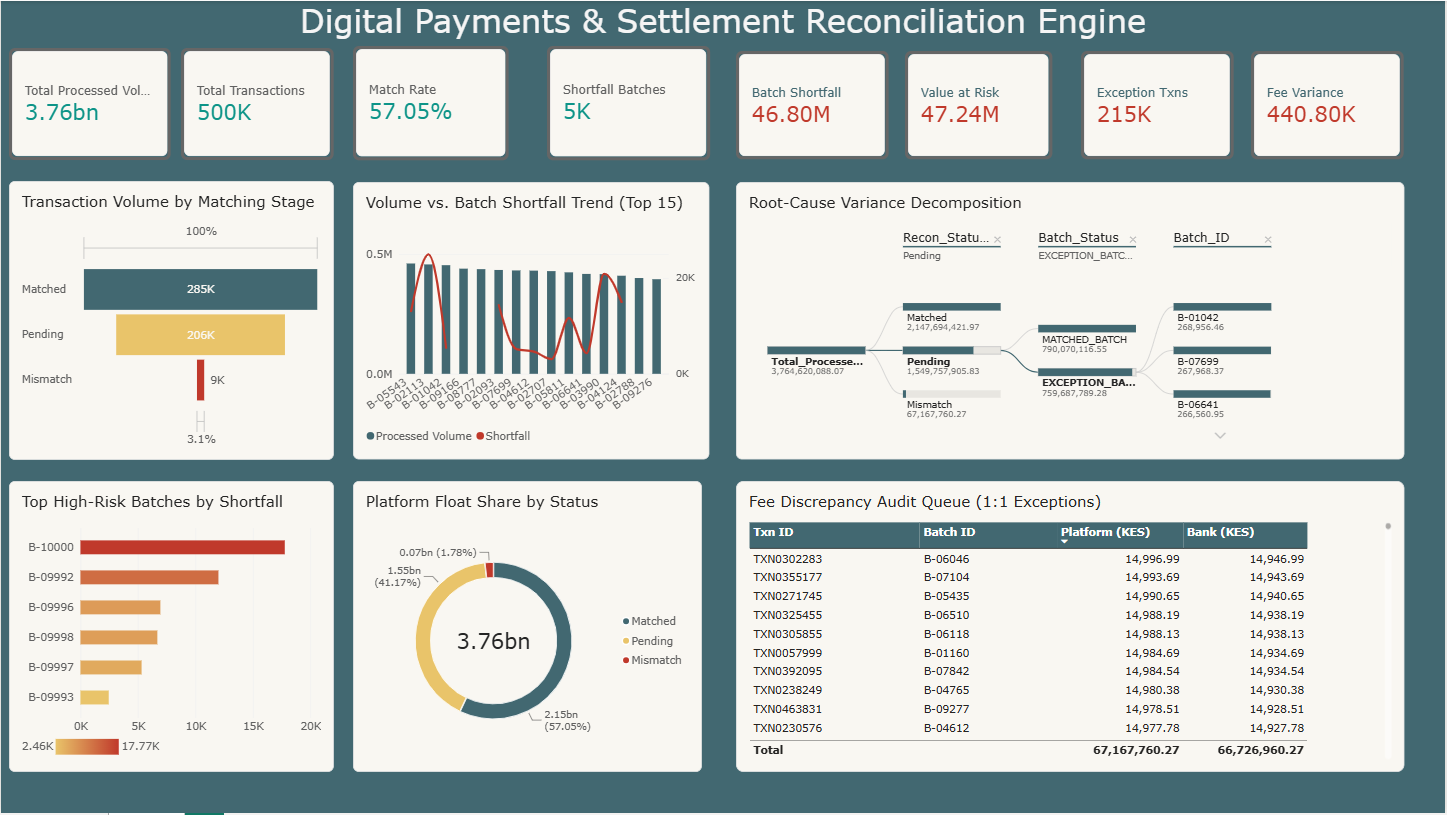

What the dashboard file says about the page in this screenshot:
{"tool":"powerbi","page":{"name":"Page 1","canvas":[1920,1080],"ordinal":0},"visuals":[{"type":"cardVisual","fields":{"Data":["_Measures.Total_Processed_Volume"]},"box":[10.6,62.5,215.5,149],"z":0},{"type":"cardVisual","fields":{"Data":["_Measures.Total_Value_at_Risk"]},"box":[1202.2,67.1,195.5,144.4],"z":1000},{"type":"cardVisual","fields":{"Data":["_Measures.Auto_Match_Rate"]},"box":[468.3,59.8,207.2,151.7],"z":2000},{"type":"cardVisual","fields":{"Data":["_Measures.Batch_Shortfall"]},"box":[977.5,67.1,202.8,144.4],"z":3000},{"type":"lineClusteredColumnComboChart","title":"Volume vs. Batch Shortfall Trend (Top 15)","fields":{"Category":["Fact_Phase2_Batches.Batch_ID"],"Y":["_Measures.Total_Processed_Volume"],"Y2":["_Measures.Batch_Shortfall"]},"box":[468.3,240.7,474.2,369.1],"z":4000},{"type":"textbox","box":[0,0,1920.6,59.9],"z":5000},{"type":"clusteredBarChart","title":"Top High-Risk Batches by Shortfall","fields":{"Category":["Fact_Phase2_Batches.Batch_ID"],"Y":["_Measures.Batch_Shortfall"]},"box":[10.2,639,431.9,386.6],"z":6000},{"type":"donutChart","title":"Platform Float Share by Status","fields":{"Category":["Fact_Phase1_Transactions.Recon_Status_Clean"],"Y":["_Measures.Total_Processed_Volume"]},"box":[468.3,639,464,386.6],"z":7000},{"type":"cardVisual","fields":{"Data":["_Measures.Line_Item_Variance"]},"box":[1663.2,67.1,202.8,144.4],"z":8000},{"type":"cardVisual","fields":{"Data":["_Measures.Exception_Txn_Count"]},"box":[1437.1,67.1,202.8,144.4],"z":9000},{"type":"cardVisual","fields":{"Data":["_Measures.Total_Transactions"]},"box":[239.3,62.7,202.8,148.8],"z":10000},{"type":"cardVisual","fields":{"Data":["_Measures.Shortfall_Batch_Count"]},"box":[726.2,59.9,216.8,151.6],"z":11000},{"type":"funnel","title":"Transaction Volume by Matching Stage","fields":{"Category":["Fact_Phase1_Transactions.Recon_Status_Clean"],"Y":["_Measures.Total_Transactions"]},"box":[10.2,239.3,432,371],"z":12000},{"type":"decompositionTreeVisual","title":"Root-Cause Variance Decomposition","fields":{"Analyze":["_Measures.Total_Processed_Volume"],"ExplainBy":["Fact_Phase1_Transactions.Recon_Status_Clean","Fact_Phase2_Batches.Batch_Status","Fact_Phase1_Transactions.Batch_ID"]},"box":[977.5,240.7,888.5,369.1],"z":13000},{"type":"tableEx","title":"Fee Discrepancy Audit Queue (1:1 Exceptions)","fields":{"Values":["Fact_Phase1_Transactions.Txn_ID","Fact_Phase1_Transactions.Batch_ID","Sum(Fact_Phase1_Transactions.Internal_Amount)","Sum(Fact_Phase1_Transactions.Bank_Amount)"]},"box":[977.5,639,888.5,386.6],"z":14000}]}

Visuals, with their boxes in screenshot pixels (x1, y1, x2, y2), scaled from the page's 1920x1080 canvas onto the 1447x815 screenshot:
cardVisual - _Measures.Total_Processed_Volume: [left=8, top=47, right=170, bottom=160]
cardVisual - _Measures.Total_Value_at_Risk: [left=906, top=51, right=1053, bottom=160]
cardVisual - _Measures.Auto_Match_Rate: [left=353, top=45, right=509, bottom=160]
cardVisual - _Measures.Batch_Shortfall: [left=737, top=51, right=890, bottom=160]
"Volume vs. Batch Shortfall Trend (Top 15)" lineClusteredColumnComboChart: [left=353, top=182, right=710, bottom=460]
textbox: [left=0, top=0, right=1446, bottom=45]
"Top High-Risk Batches by Shortfall" clusteredBarChart: [left=8, top=482, right=333, bottom=774]
"Platform Float Share by Status" donutChart: [left=353, top=482, right=703, bottom=774]
cardVisual - _Measures.Line_Item_Variance: [left=1253, top=51, right=1406, bottom=160]
cardVisual - _Measures.Exception_Txn_Count: [left=1083, top=51, right=1236, bottom=160]
cardVisual - _Measures.Total_Transactions: [left=180, top=47, right=333, bottom=160]
cardVisual - _Measures.Shortfall_Batch_Count: [left=547, top=45, right=711, bottom=160]
"Transaction Volume by Matching Stage" funnel: [left=8, top=181, right=333, bottom=461]
"Root-Cause Variance Decomposition" decompositionTreeVisual: [left=737, top=182, right=1406, bottom=460]
"Fee Discrepancy Audit Queue (1:1 Exceptions)" tableEx: [left=737, top=482, right=1406, bottom=774]
